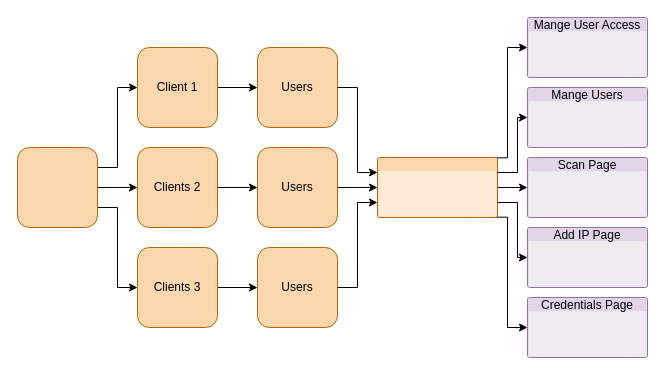
Some shapes in this 665 by 375 pixel diagram are drawn without their labels. Each missing label, with the centre of its shape:
Login Page: the point at 437,187
Tenants: the point at 57,187
